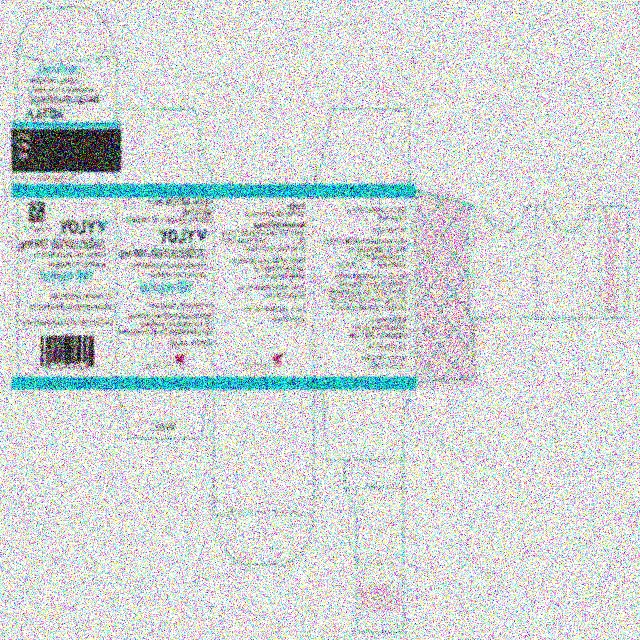Artwork: (0, 0, 640, 640)
Back_Panel: (314, 189, 411, 383)
Bottom_Part: (16, 57, 116, 189), (214, 514, 314, 566)
Extra_Areas: (411, 185, 630, 391), (316, 382, 411, 634), (117, 105, 214, 188), (314, 107, 411, 189), (117, 384, 213, 441), (17, 5, 116, 57), (214, 184, 315, 188)
Front_Panel: (116, 189, 214, 383)
Side_Panel: (214, 189, 314, 383), (18, 189, 116, 383)
Top_Panel: (213, 383, 313, 515)
